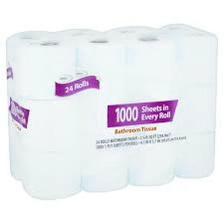tissue: (0, 16, 224, 204)
